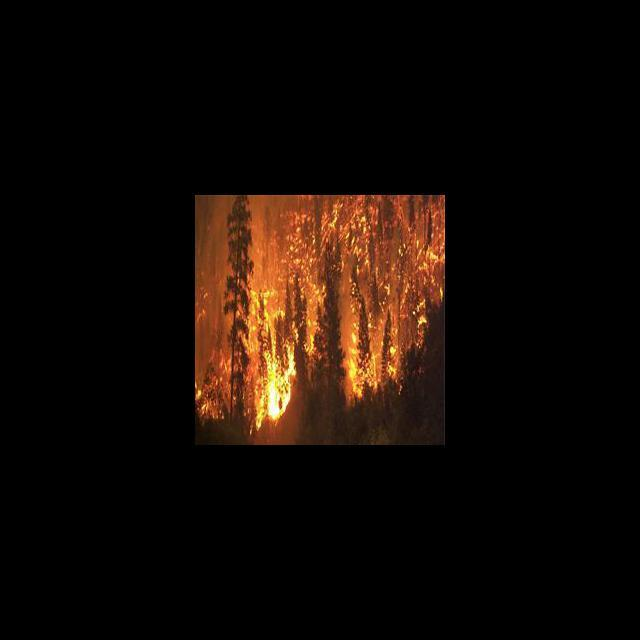Fire: (196, 200, 445, 430)
